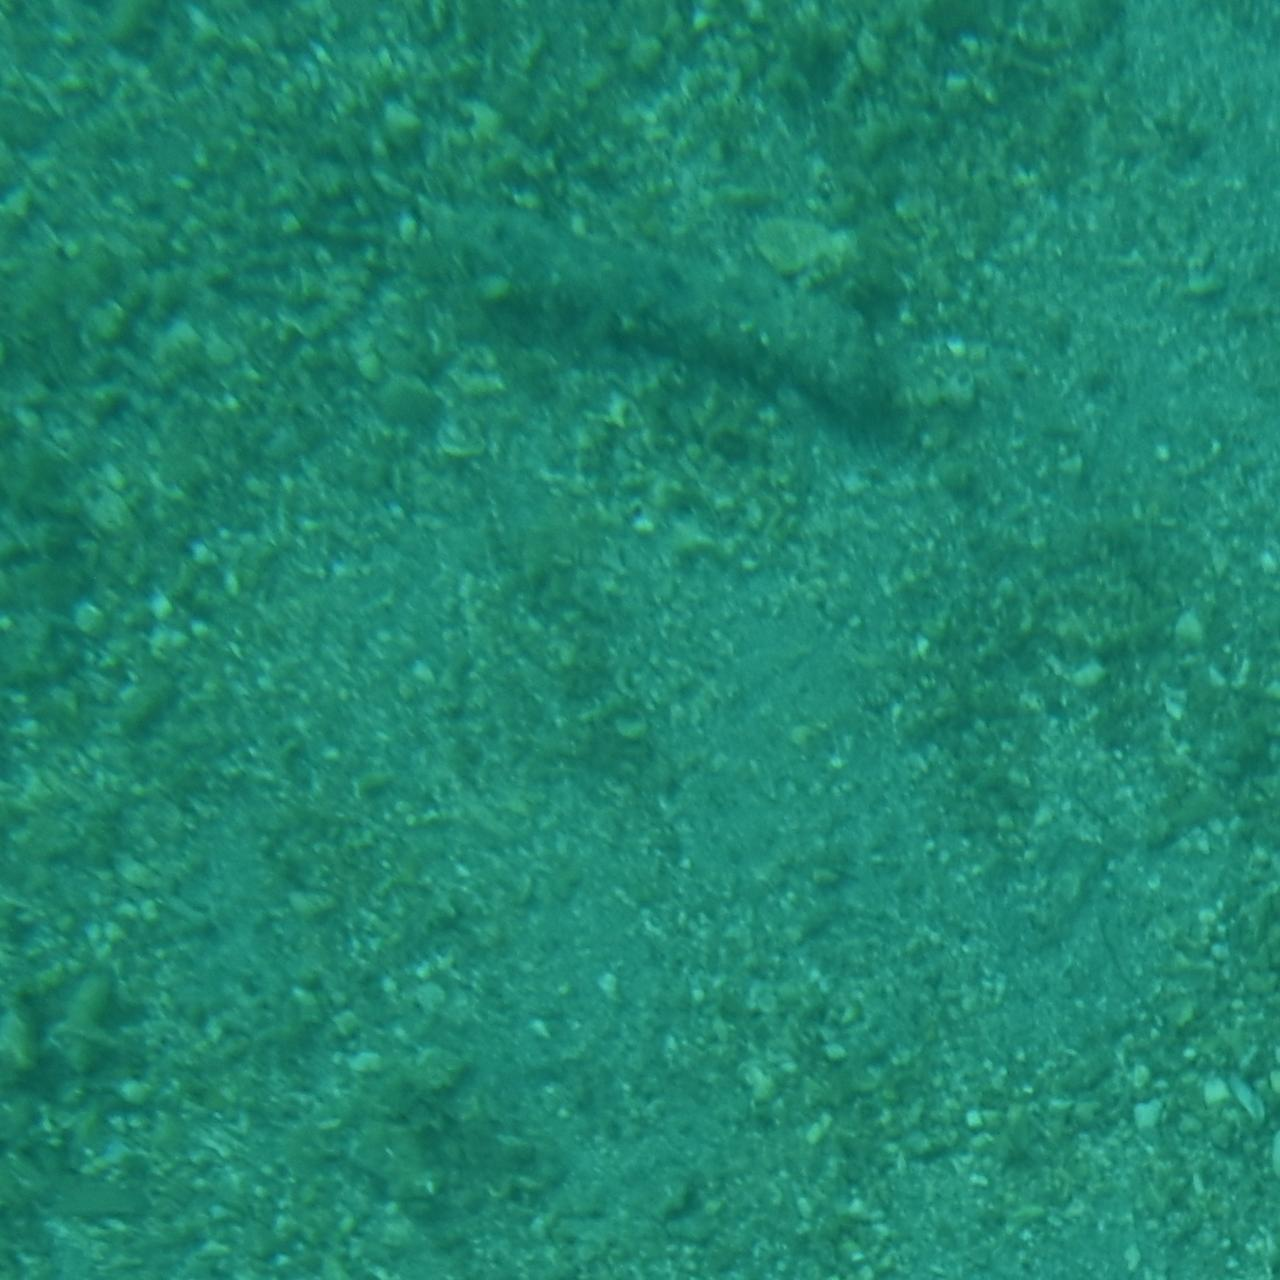Holothuria tubulosa: (382, 199, 898, 447)
